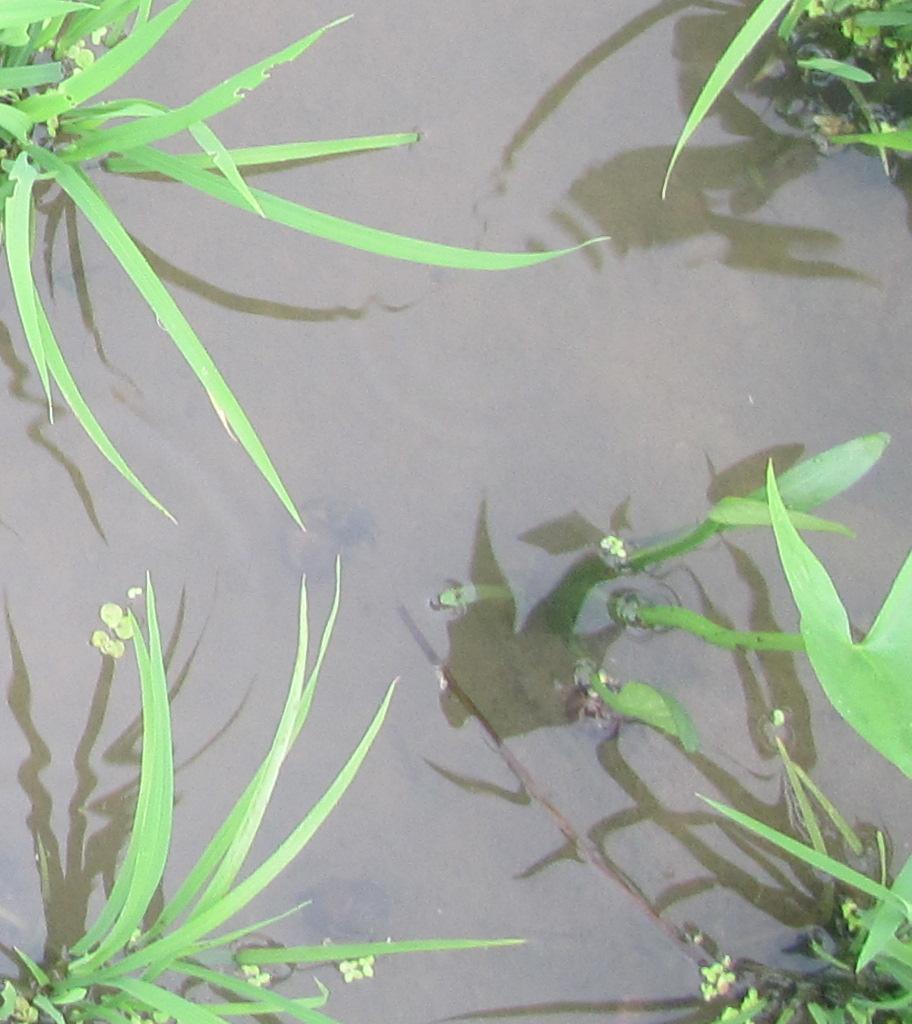Weed: (732, 424, 912, 771), (577, 508, 733, 767)
